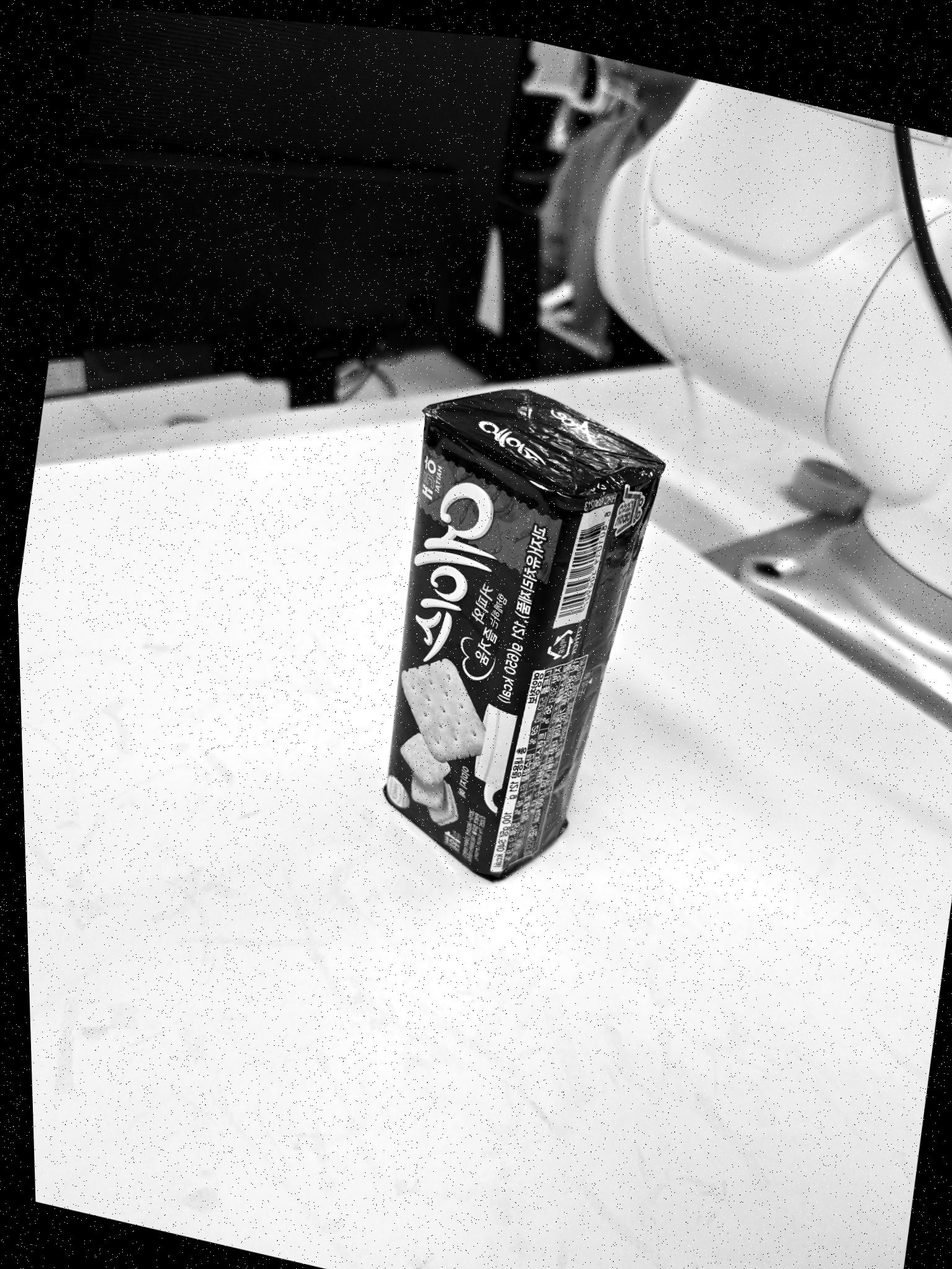cracker_ace: (383, 391, 663, 878)
